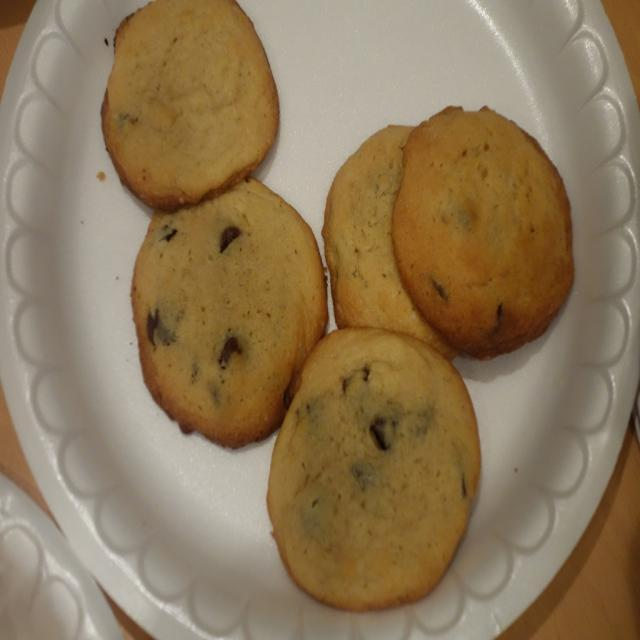Cookie: (268, 323, 484, 620), (128, 176, 330, 454), (391, 107, 575, 365), (99, 0, 281, 212), (326, 125, 462, 360)
